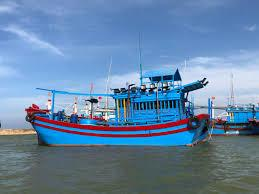Ship: (26, 70, 210, 147), (210, 75, 259, 136)
